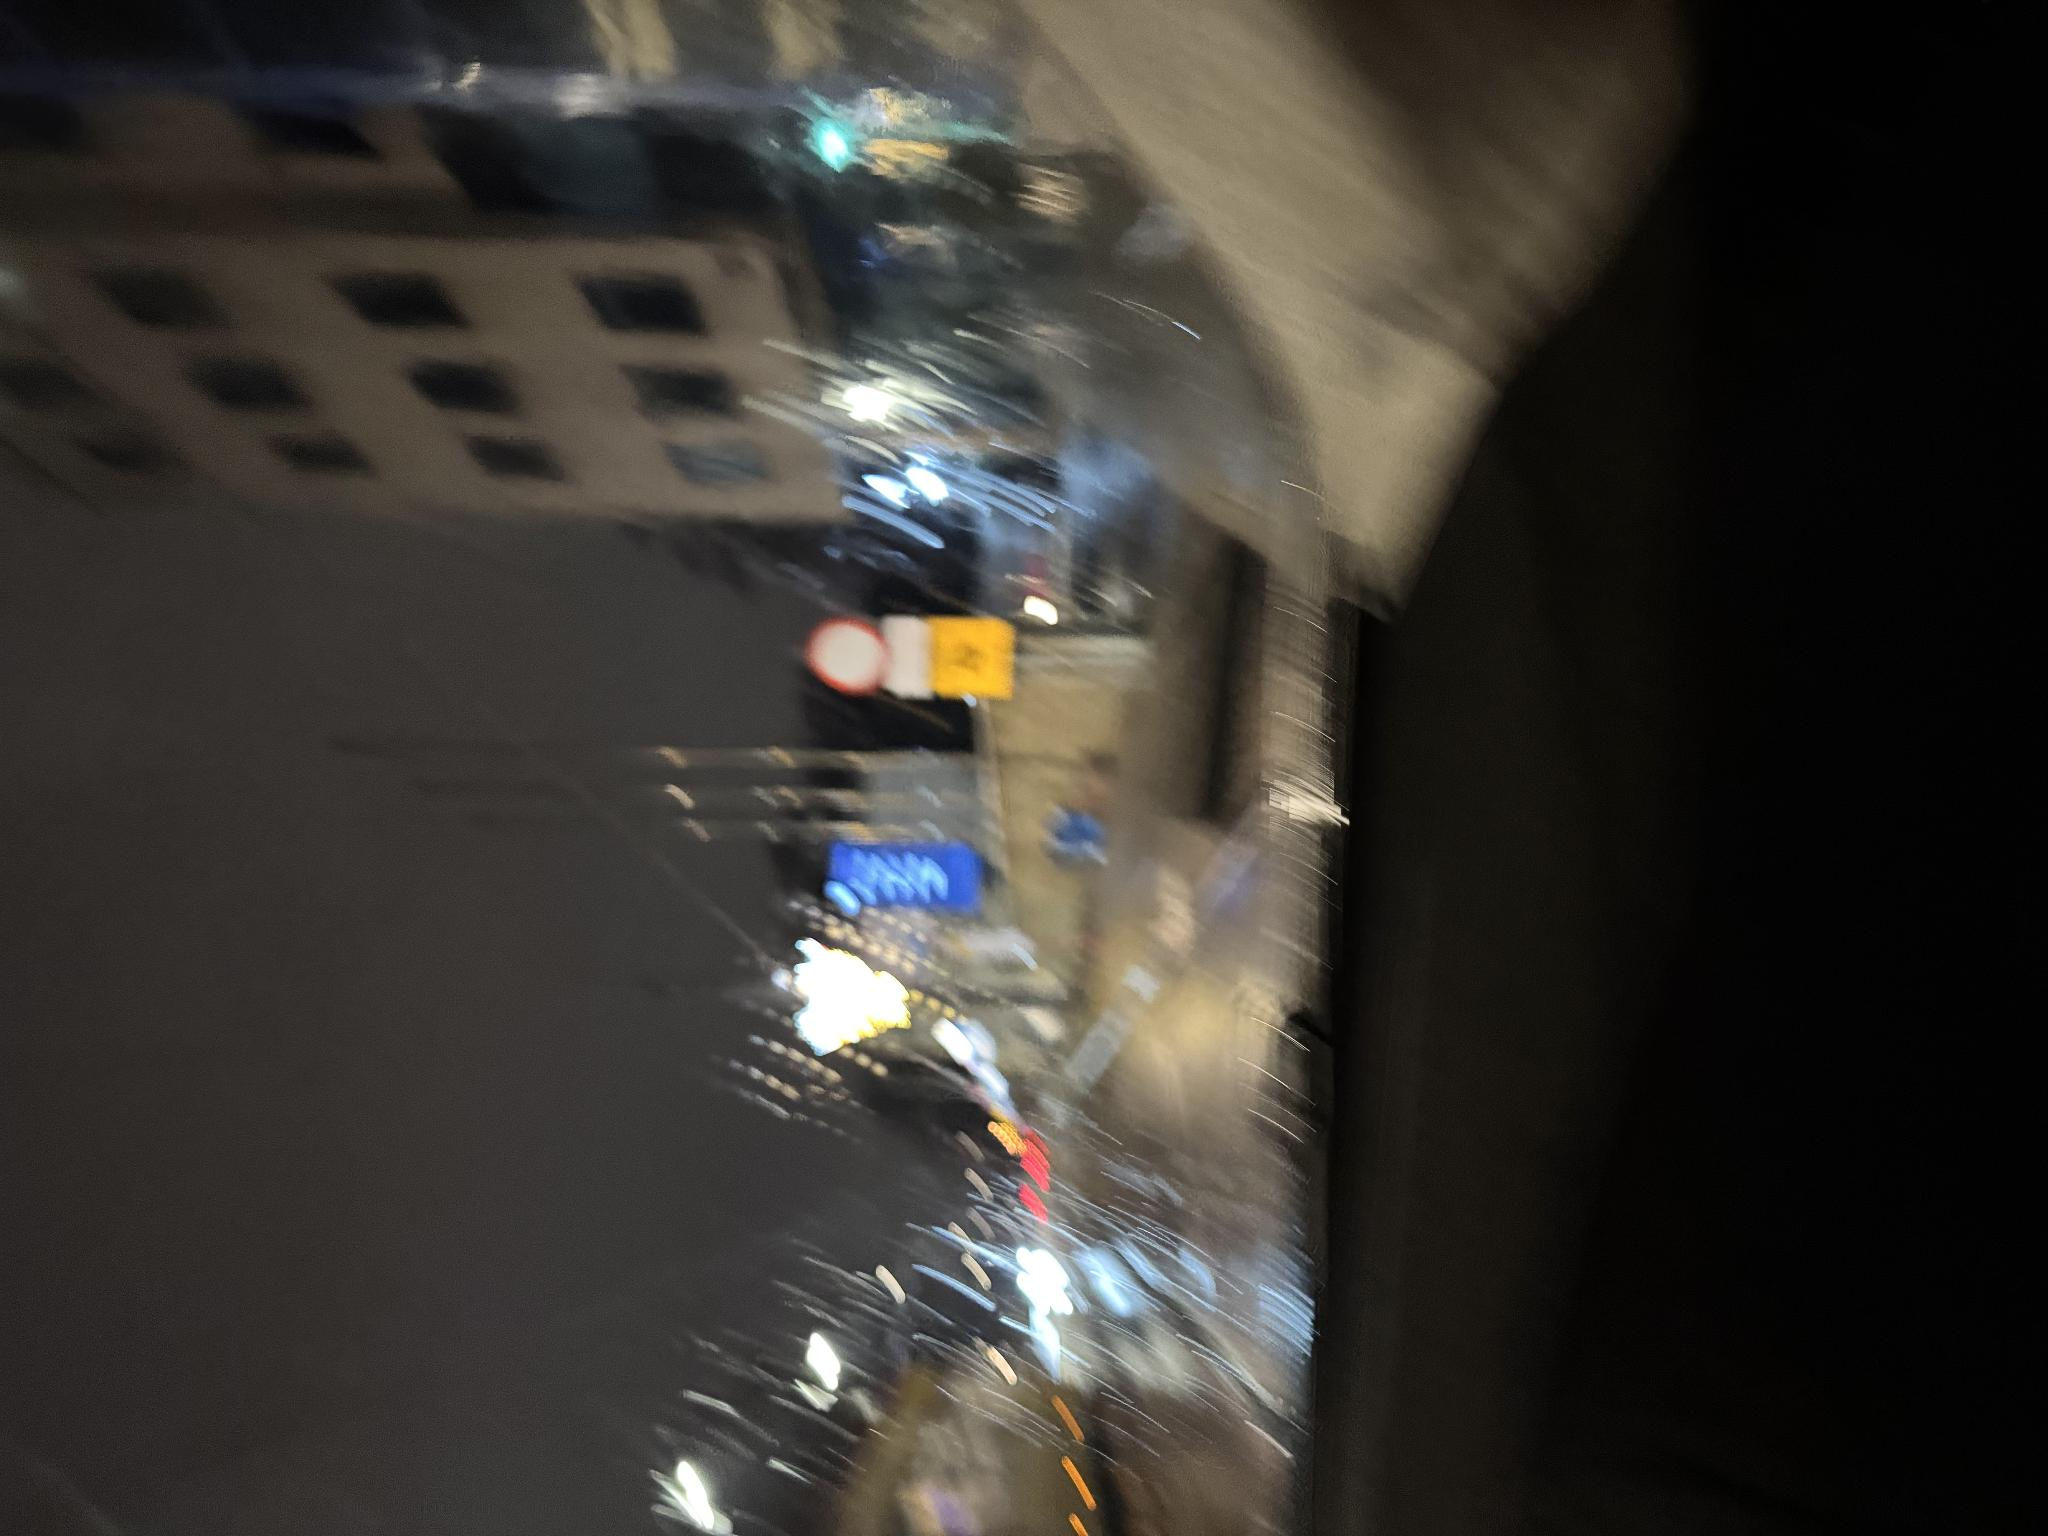prohibitory: (842, 805, 922, 889)
